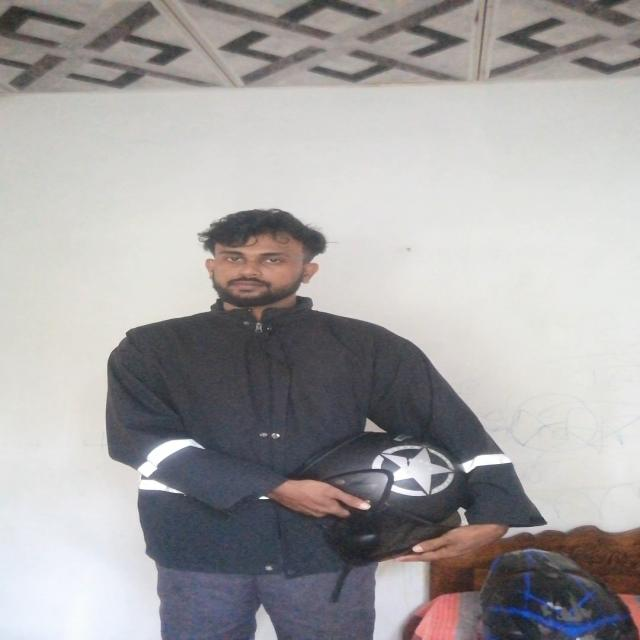Jacket_Wearer: (77, 303, 550, 564)
Person: (86, 206, 517, 640)
